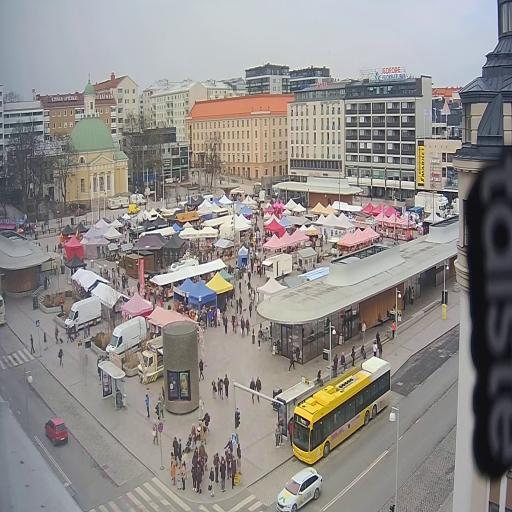bus: (289, 350, 395, 472), (0, 286, 9, 329)
car: (269, 459, 325, 512), (43, 413, 71, 450)
delivery: (106, 310, 148, 366), (64, 292, 104, 342), (414, 190, 454, 224), (129, 188, 149, 208)
